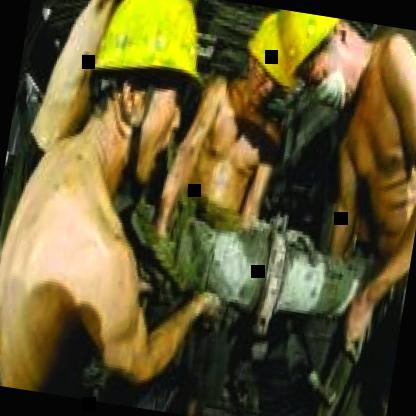helmet: (66, 0, 219, 199), (270, 10, 361, 98), (236, 7, 305, 109)
